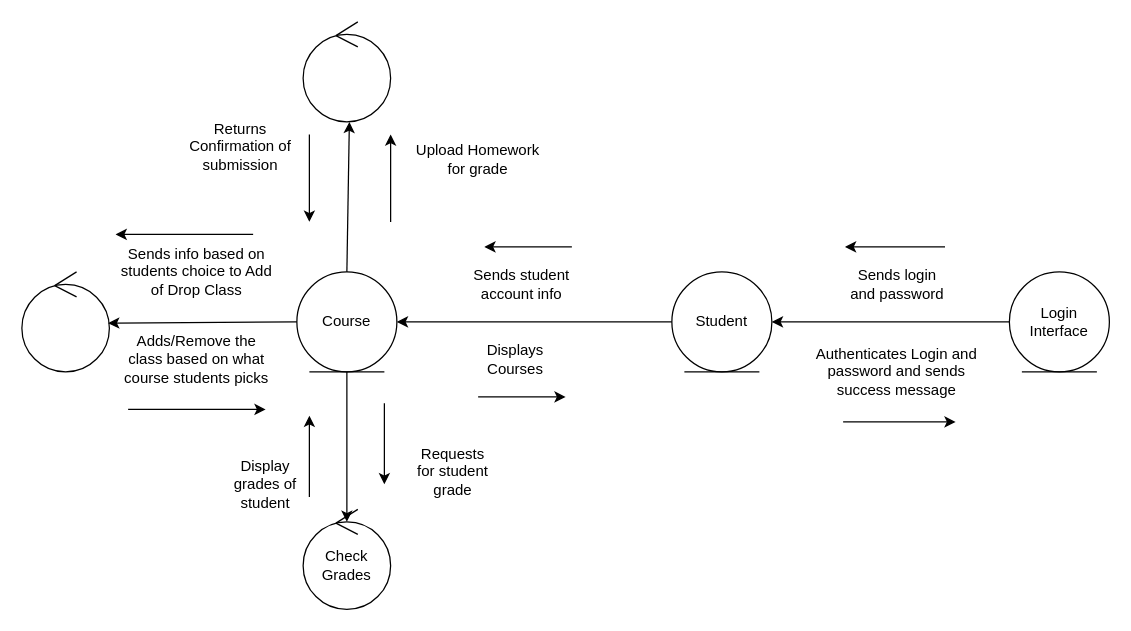
The diagram is 1131 pixels wide and 631 high, and some of its shapes have lost their labels. The centre of each missing label's shape, as x and y in pixels:
Manage Courses: (65,321)
Upload Homework: (346,71)
